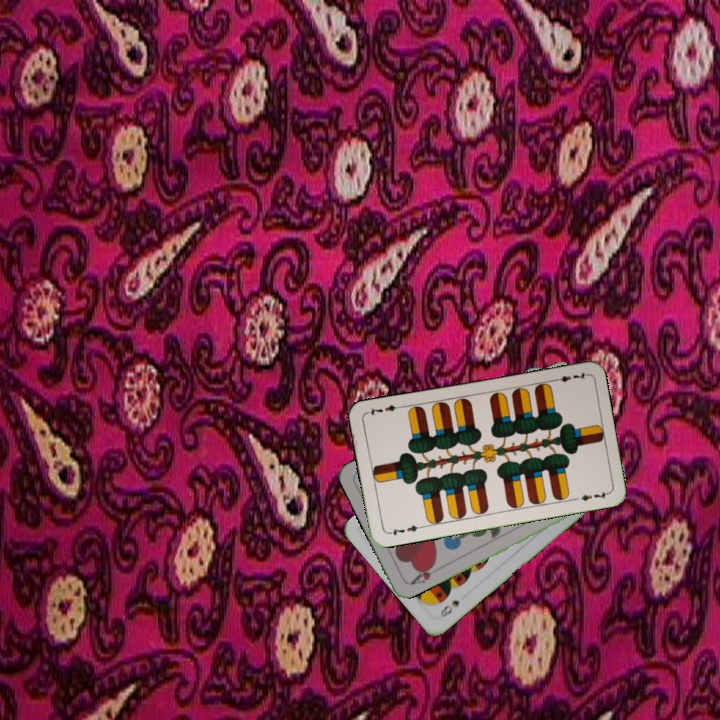E7: (384, 521, 425, 538), (549, 368, 589, 385)
HA: (407, 558, 443, 587)
S8: (436, 596, 462, 620)
